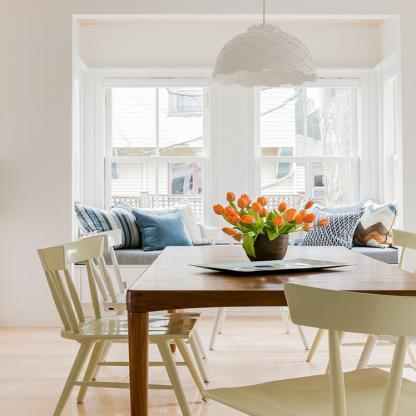chair: (199, 288, 416, 416), (35, 234, 125, 416), (84, 212, 205, 319)
light: (209, 5, 325, 85)
sofa: (72, 205, 416, 265)
table: (124, 233, 416, 416)
